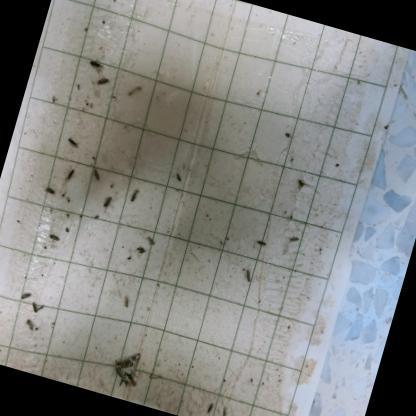prays_oleae: (85, 163, 109, 188), (94, 67, 114, 96), (116, 287, 135, 316), (64, 132, 85, 155), (44, 224, 64, 247), (129, 242, 150, 262), (28, 297, 45, 320), (20, 312, 36, 336), (100, 190, 118, 211), (126, 187, 143, 207), (41, 180, 58, 199), (63, 166, 79, 186), (86, 56, 104, 73), (242, 264, 255, 286), (18, 288, 34, 304), (254, 236, 270, 252), (286, 234, 300, 250), (173, 170, 186, 186)
